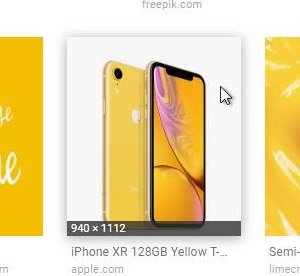cursor: (218, 85, 232, 106)
